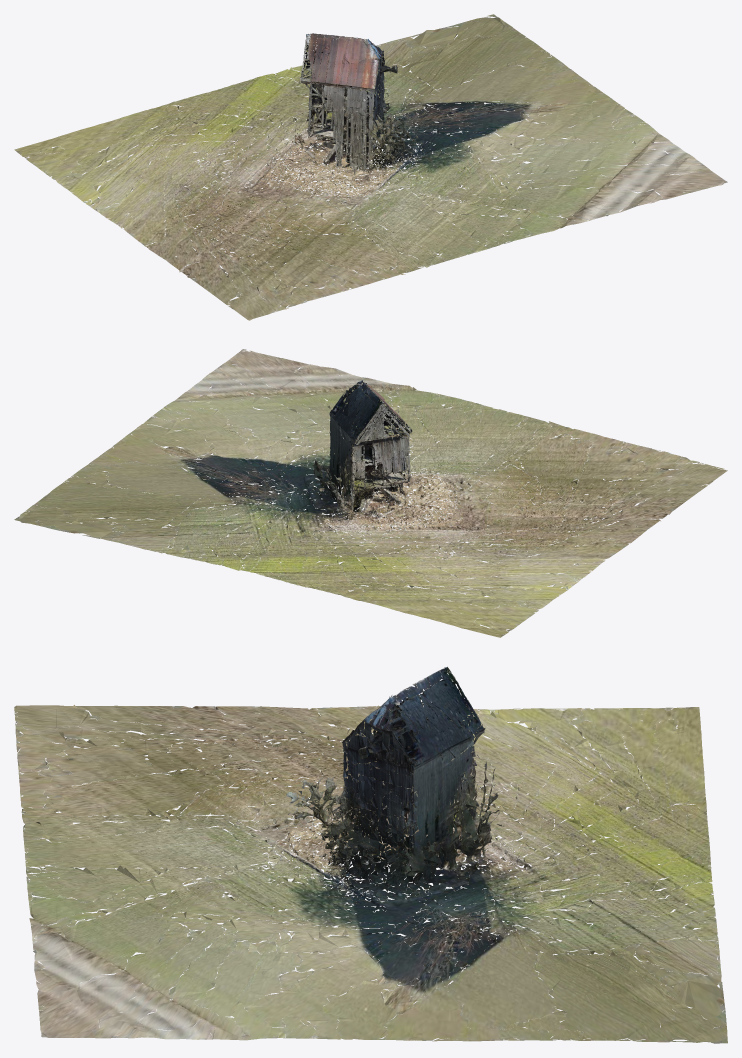
File: scan01.glb
3 renders of one model, top to bottom at view 1: azimuth 30°, elevation 25°; view 2: azimuth 150°, elevation 25°; view 3: azimuth 270°, elevation 25°, orthographic. The views are drawn at different scales.
Visible parts, largest first — view 1: Mesh_0.006, Mesh_1; view 2: Mesh_0.006, Mesh_1; view 3: Mesh_0.006, Mesh_1.
Boxes of the visible parts, x1,y1,x2,y2 form: Mesh_0.006: (18,14,726,320); Mesh_1: (14,18,727,319); Mesh_0.006: (14,349,727,634); Mesh_1: (30,349,724,637); Mesh_0.006: (14,667,727,1043); Mesh_1: (14,667,727,1042).
Bounding box in the file's own units: 62.73 × 16.05 × 54.16.
Materials: 2 (2 with a texture image).
